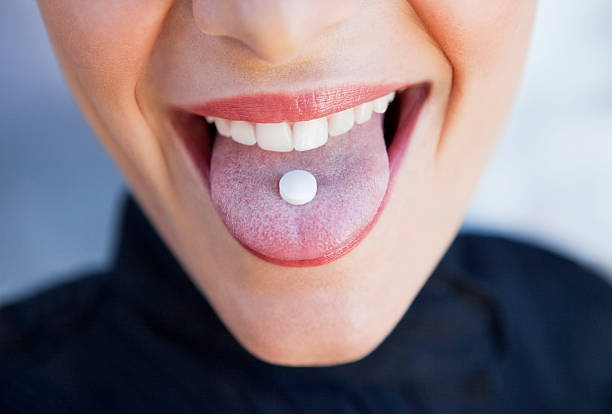pills: (273, 166, 319, 209)
